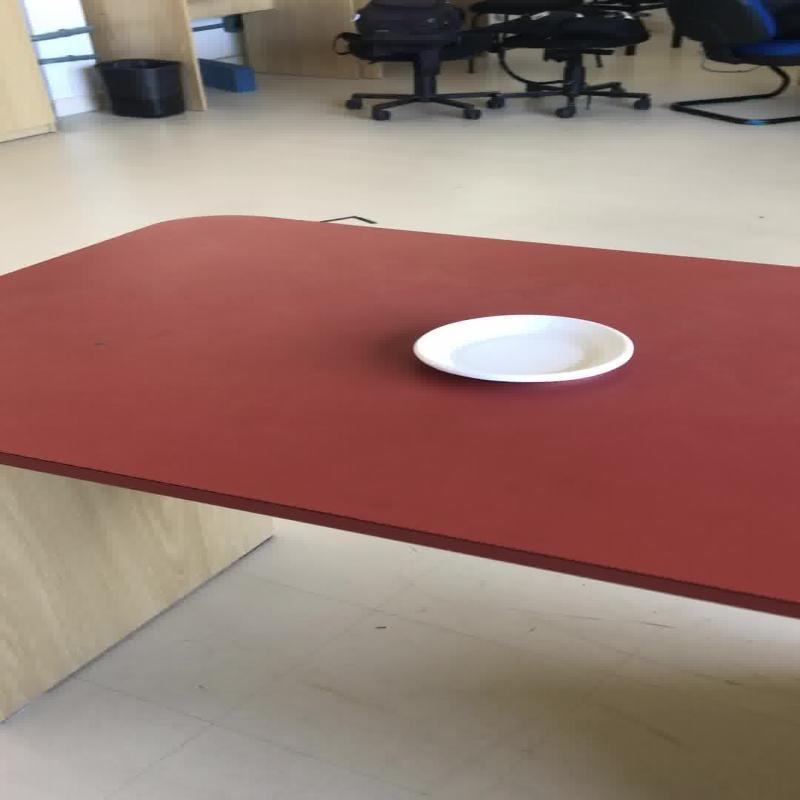plate: (410, 312, 634, 382)
